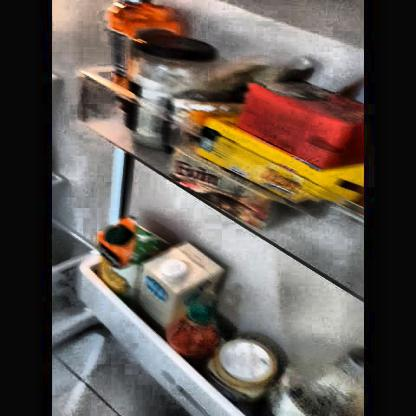butter: (180, 127, 300, 206)
milk: (140, 244, 197, 325)
